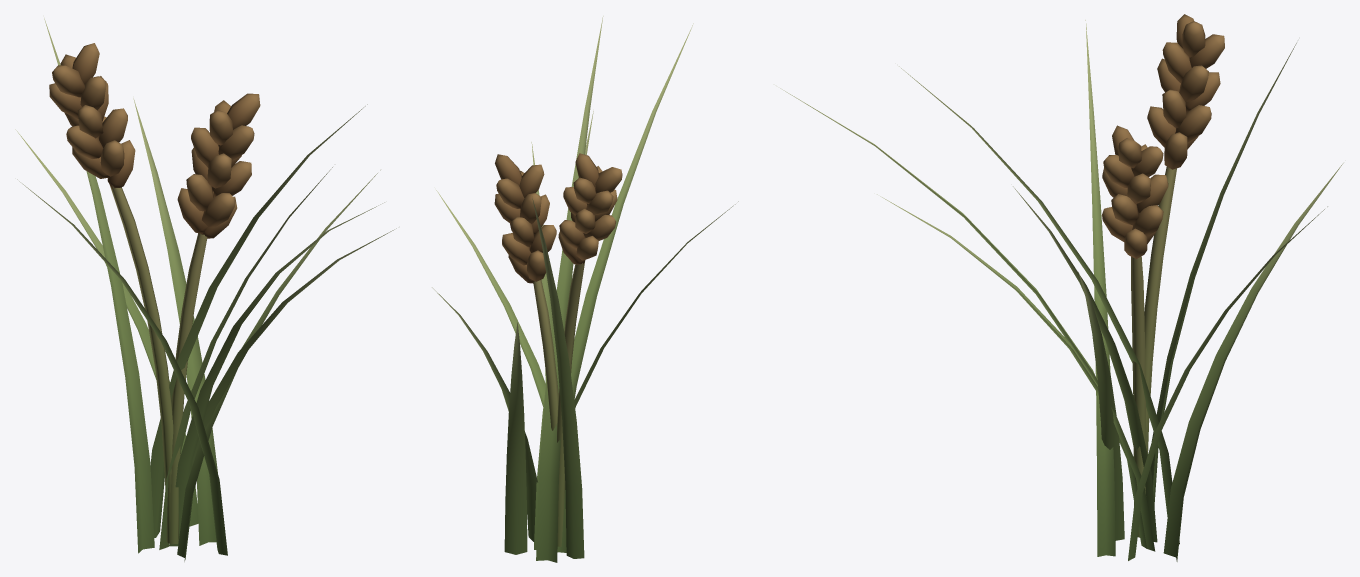
Rendered from Coast_Grass_A.fbx.
The picture shows the model from 3 angles, left to right: view 1: azimuth 30°, elevation 25°; view 2: azimuth 150°, elevation 25°; view 3: azimuth 270°, elevation 25°; orthographic projection. The views are drawn at different scales.
Visible parts, largest first — view 1: Coast_Grass_A; view 2: Coast_Grass_A; view 3: Coast_Grass_A.
Part boxes in pixels (box(x1,y1,x2,y2)): Coast_Grass_A: box(15, 18, 396, 561); Coast_Grass_A: box(432, 16, 738, 562); Coast_Grass_A: box(780, 14, 1343, 561).
Bounding box in the file's own units: 3.13 × 4.26 × 4.32.
